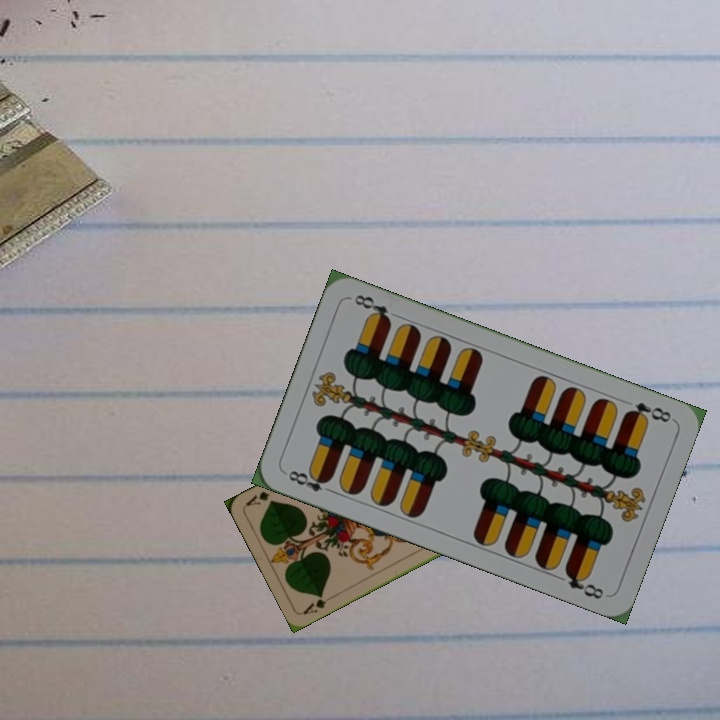E8: (284, 466, 338, 497), (621, 398, 674, 425)
GA: (299, 591, 337, 617)
